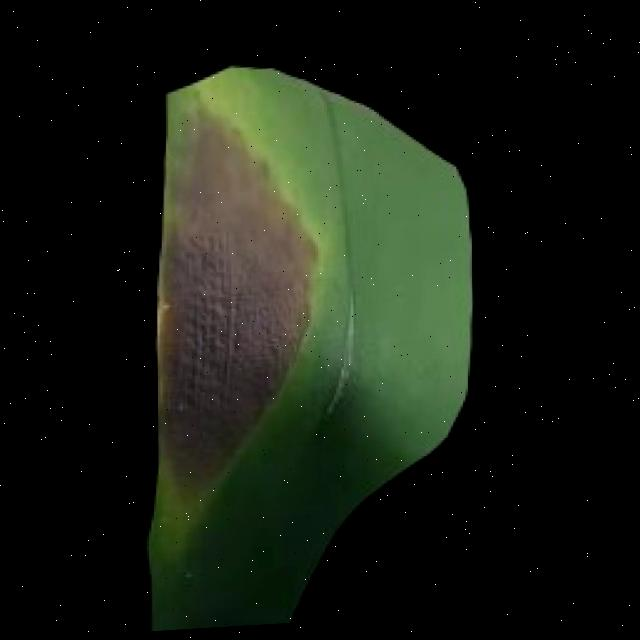mite: (0, 0, 640, 640), (268, 434, 640, 628), (268, 449, 480, 628), (317, 363, 362, 427), (165, 554, 209, 598), (177, 564, 199, 590)
spots: (139, 52, 482, 634)
sunburn: (152, 97, 325, 501)
